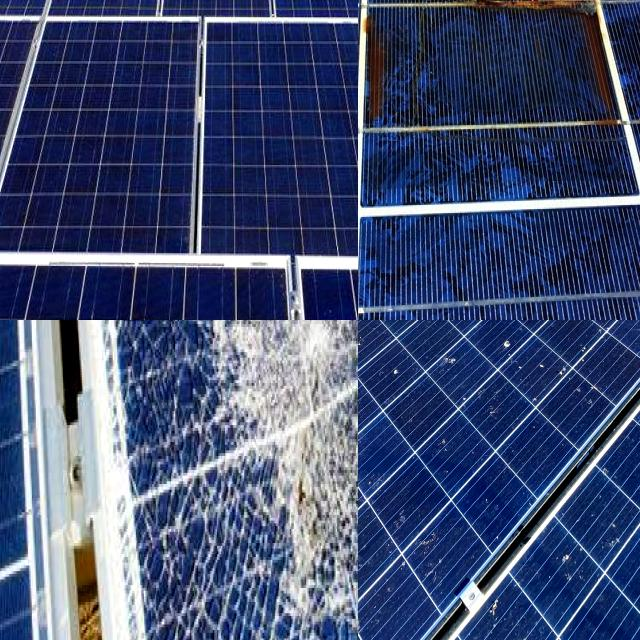crack: (0, 28, 206, 281), (194, 17, 358, 282), (146, 0, 293, 55), (37, 0, 173, 57), (258, 0, 358, 56), (0, 0, 84, 57)
dust: (358, 383, 445, 547), (470, 324, 610, 418), (488, 320, 640, 373), (358, 320, 414, 385)
hotspot: (187, 320, 358, 603)
shadow: (361, 0, 623, 158)
